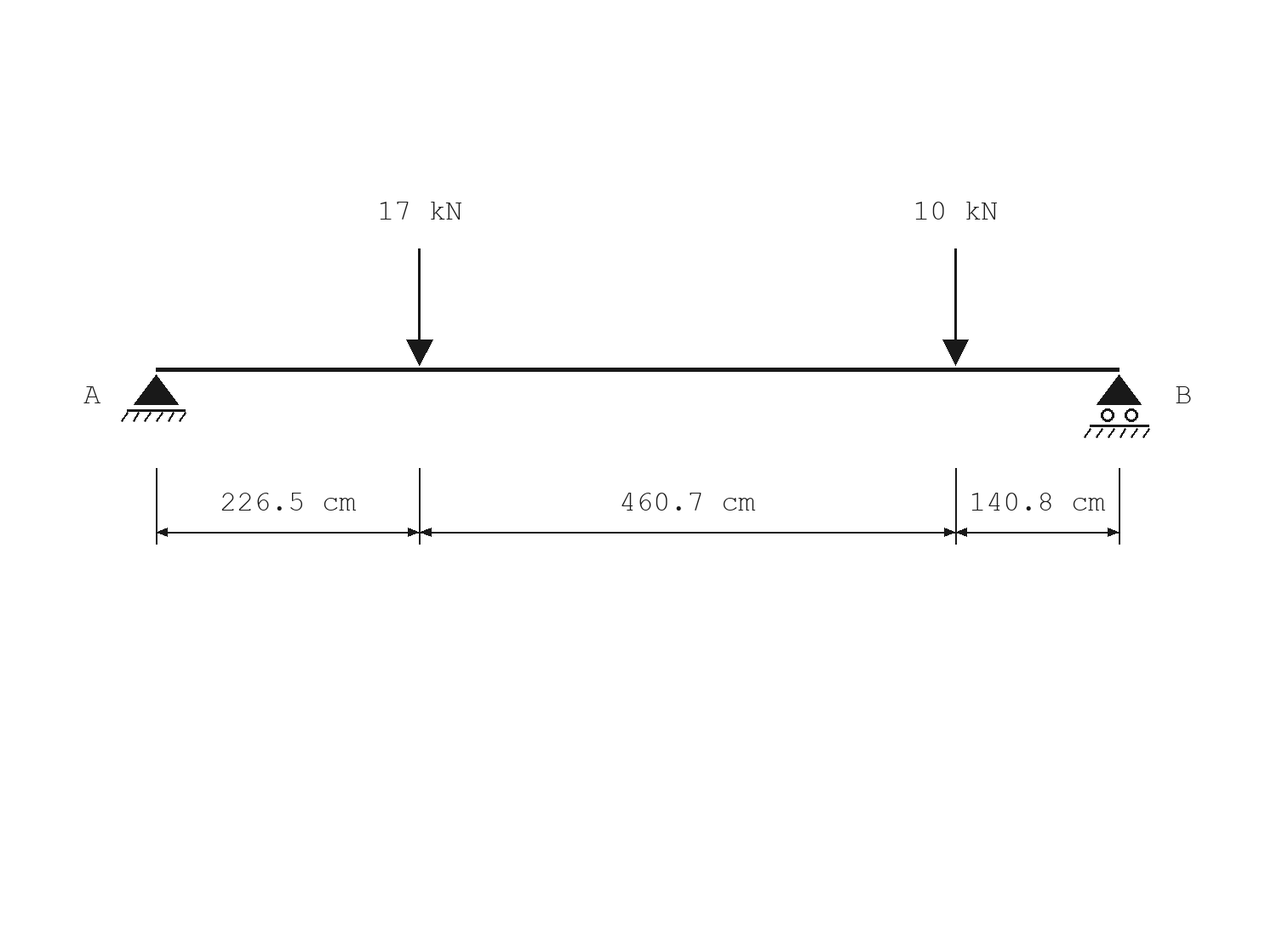pin_support: (121, 374, 186, 422)
point_load: (406, 248, 433, 366), (942, 248, 969, 366)
roller_support: (1084, 374, 1150, 438)
